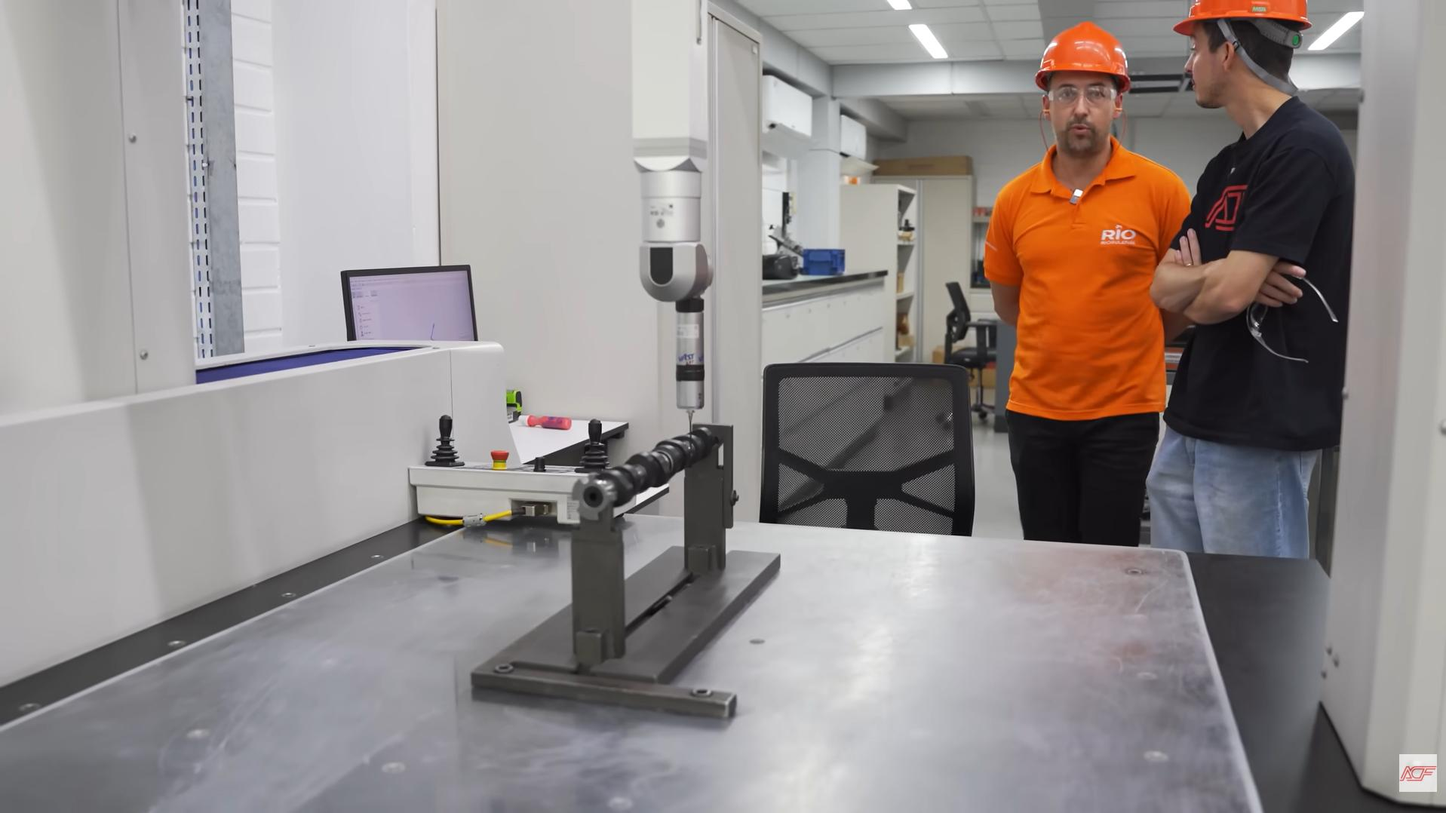goggles: (1041, 77, 1131, 111)
helmet: (1028, 17, 1139, 95), (1170, 0, 1320, 44), (1167, 0, 1322, 29)
